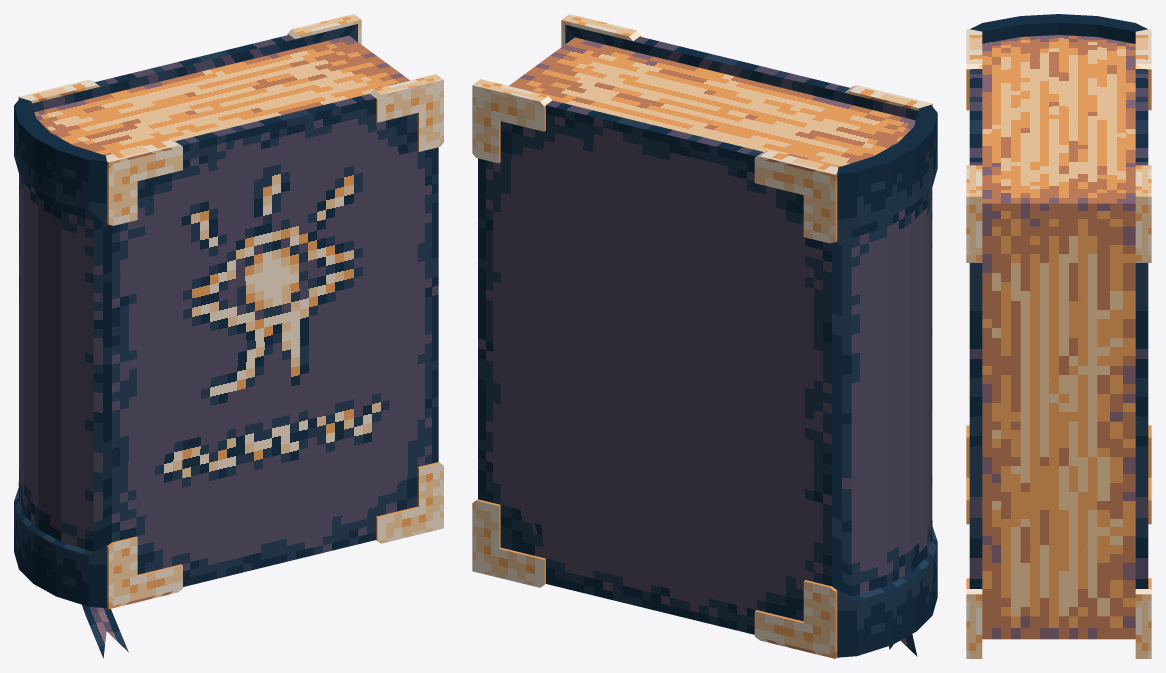
The model's file is tome.glb.
3 views of the same model, side by side, from view 1: azimuth 30°, elevation 25°; view 2: azimuth 150°, elevation 25°; view 3: azimuth 270°, elevation 25° (orthographic). The views are drawn at different scales.
Parts seen in each view (by area): view 1: Book2; view 2: Book2; view 3: Book2.
Boxes of the visible parts, bbox=[...] form: Book2: bbox=[14, 14, 443, 658]; Book2: bbox=[472, 14, 937, 658]; Book2: bbox=[966, 14, 1151, 658].
Bounding box in the file's own units: 3.03 × 4 × 1.29.
Materials: 1 (1 with a texture image).
